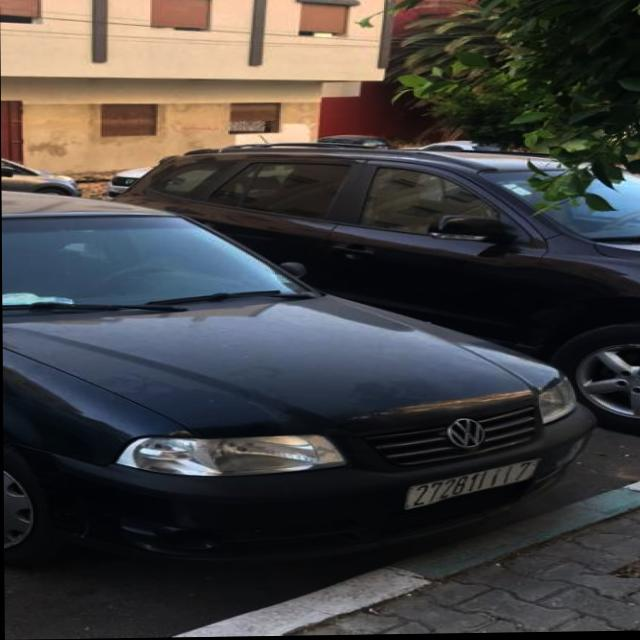License-Plate: (403, 462, 539, 510)
